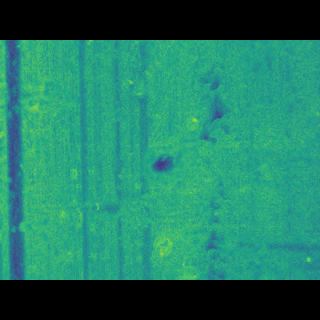Loch: (178, 68, 319, 249), (148, 204, 319, 251), (6, 187, 151, 233), (0, 98, 79, 133), (135, 142, 202, 179)
